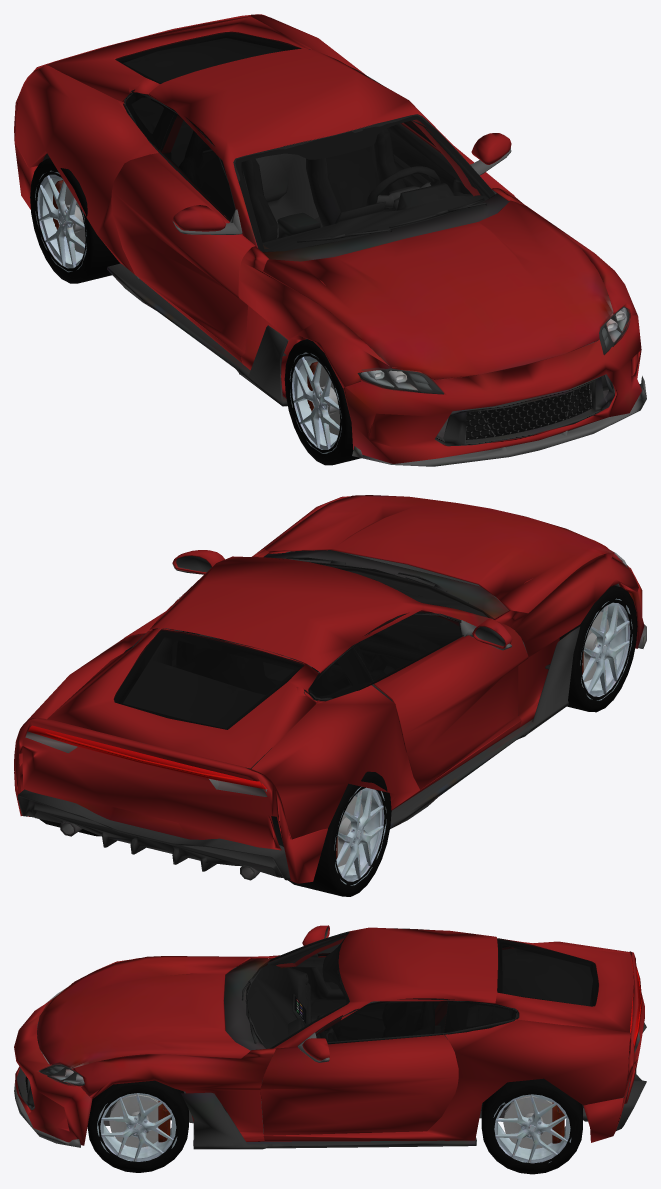
The model's file is sport-coupe-lod3.glb.
3 renders of one model, top to bottom at view 1: azimuth 30°, elevation 25°; view 2: azimuth 150°, elevation 25°; view 3: azimuth 270°, elevation 25°, orthographic. The views are drawn at different scales.
Visible parts, largest first — view 1: body, hood, glass-windshield, front-bumper, door.r, side-fender.r, interior-roof-rear-trim, trunk, seat-back-01, dashboard-base, glass-rear, side-fender-aero.r (+21 smaller); view 2: body, hood, rear-bumper, trunk, door.r, glass-rear, side-fender.r, rear-diffusor-v2, interior-roof-rear-trim, dashboard-base, side-fender-aero.r, window-front.r (+15 smaller); view 3: body, hood, door.l, side-fender.l, glass-windshield, trunk, glass-rear, interior-roof-rear-trim, front-bumper, dashboard-base, window-front.l, side-fender-aero.l (+20 smaller).
Part boxes in pixels (<box>): body: <box>14,14,495,362</box>; hood: <box>263,200,613,379</box>; glass-windshield: <box>235,115,494,252</box>; front-bumper: <box>343,314,641,463</box>; door.r: <box>111,153,255,356</box>; side-fender.r: <box>238,246,391,398</box>; interior-roof-rear-trim: <box>124,38,490,278</box>; trunk: <box>47,16,311,103</box>; seat-back-01: <box>306,128,405,226</box>; dashboard-base: <box>262,183,488,251</box>; glass-rear: <box>115,31,301,83</box>; side-fender-aero.r: <box>107,263,288,406</box>; body: <box>15,556,521,838</box>; hood: <box>263,495,614,613</box>; rear-bumper: <box>14,718,327,883</box>; trunk: <box>47,628,318,768</box>; door.r: <box>373,622,528,789</box>; glass-rear: <box>113,629,304,729</box>; side-fender.r: <box>493,552,638,727</box>; rear-diffusor-v2: <box>17,789,290,880</box>; interior-roof-rear-trim: <box>123,628,351,768</box>; dashboard-base: <box>348,571,487,670</box>; side-fender-aero.r: <box>390,626,579,828</box>; window-front.r: <box>352,611,461,681</box>; body: <box>260,927,630,1141</box>; hood: <box>37,956,250,1068</box>; door.l: <box>260,1034,458,1135</box>; side-fender.l: <box>72,1048,275,1141</box>; glass-windshield: <box>245,932,348,1048</box>; trunk: <box>495,938,633,1032</box>; glass-rear: <box>497,938,598,1006</box>; interior-roof-rear-trim: <box>267,936,592,1039</box>; front-bumper: <box>14,1001,92,1145</box>; dashboard-base: <box>246,965,311,1083</box>; window-front.l: <box>315,998,448,1042</box>; side-fender-aero.l: <box>181,1092,476,1149</box>.
Bounding box in the file's own units: 2.17 × 1.28 × 4.52.
Materials: 19 (7 with a texture image).
